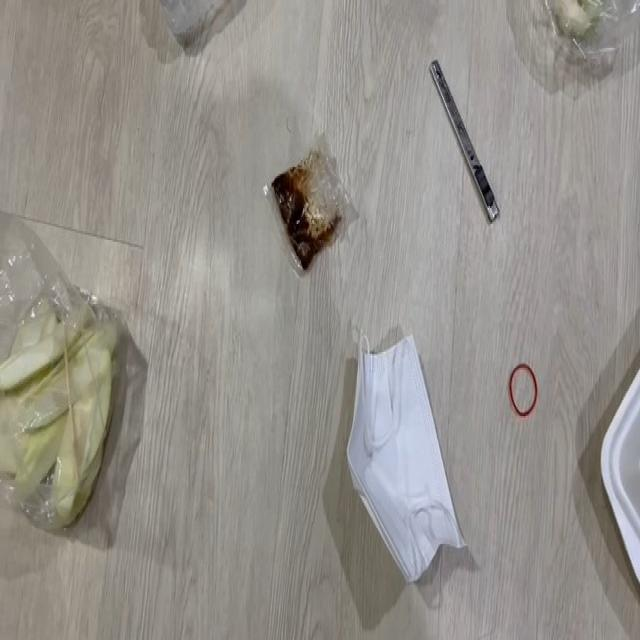Anorganik: (579, 218, 640, 630), (422, 57, 521, 220), (139, 0, 240, 69), (503, 360, 542, 420)
B3: (0, 290, 133, 539), (340, 323, 464, 581), (263, 123, 364, 287)
